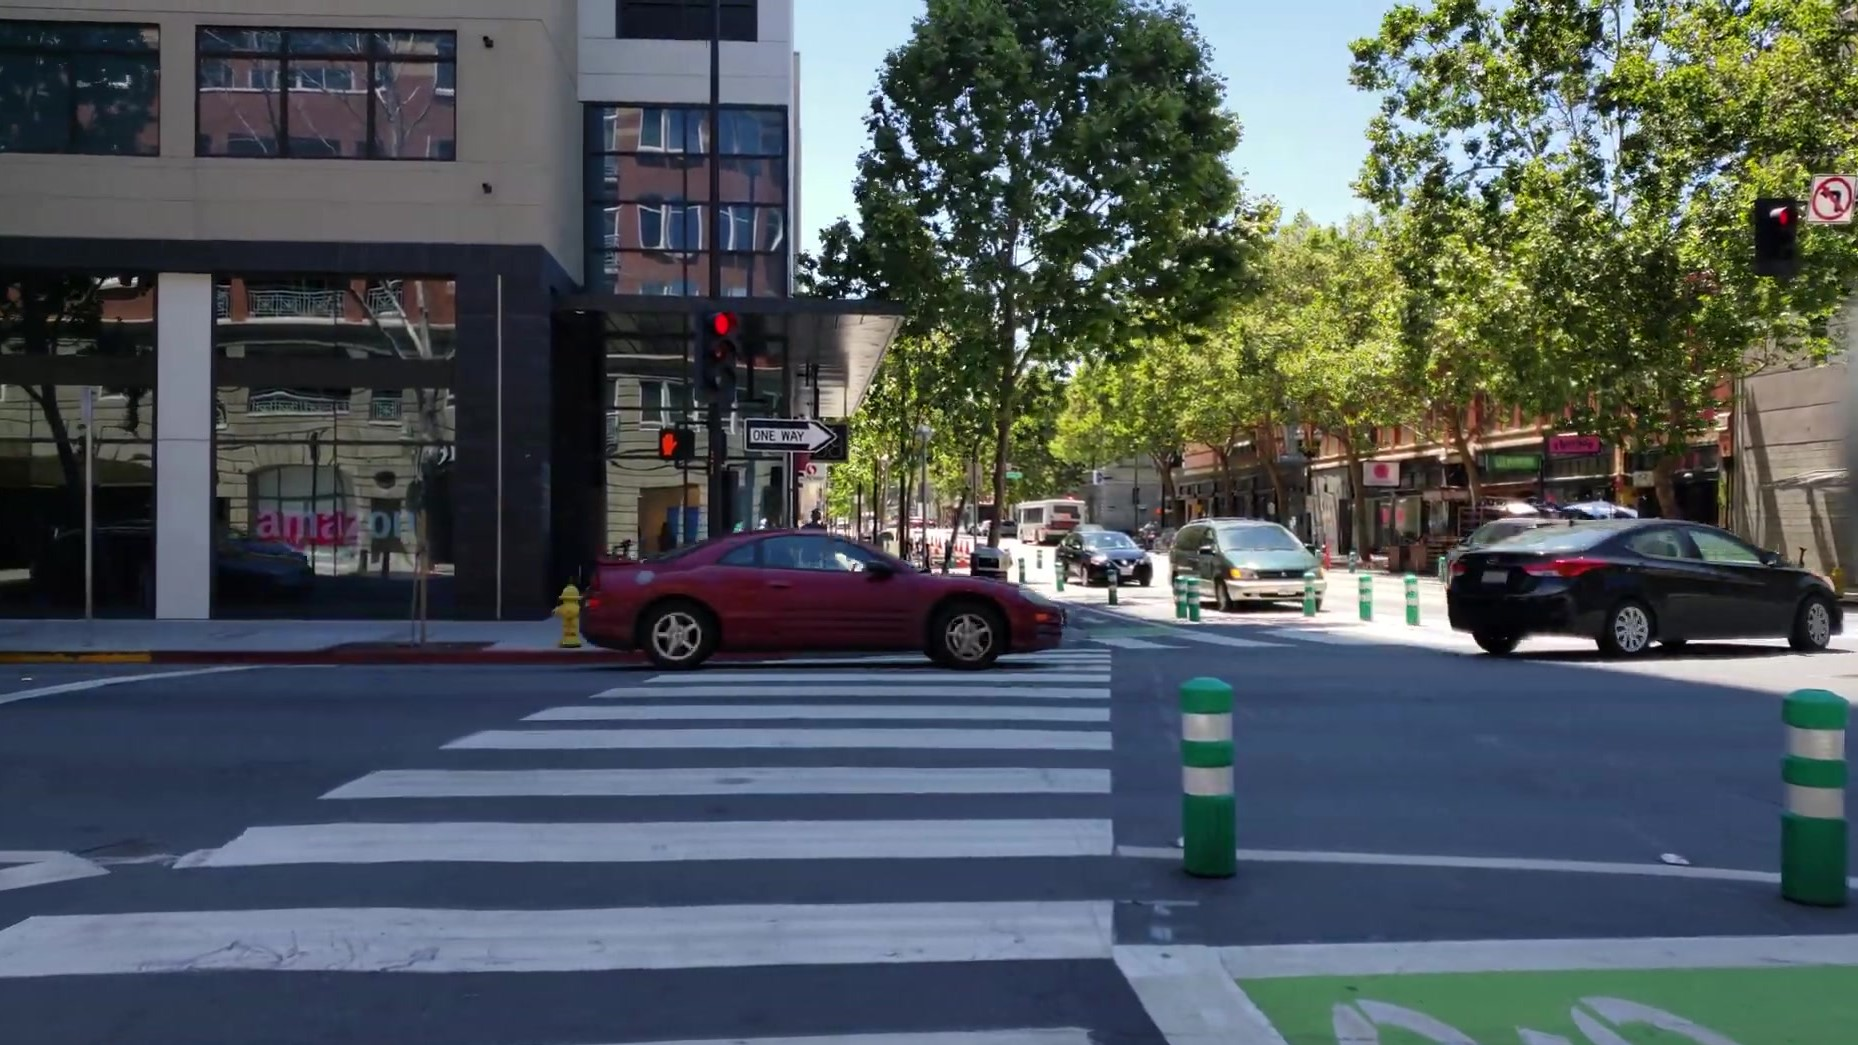vehicle: (1448, 522, 1843, 658), (1170, 519, 1327, 612), (1058, 527, 1150, 587)
